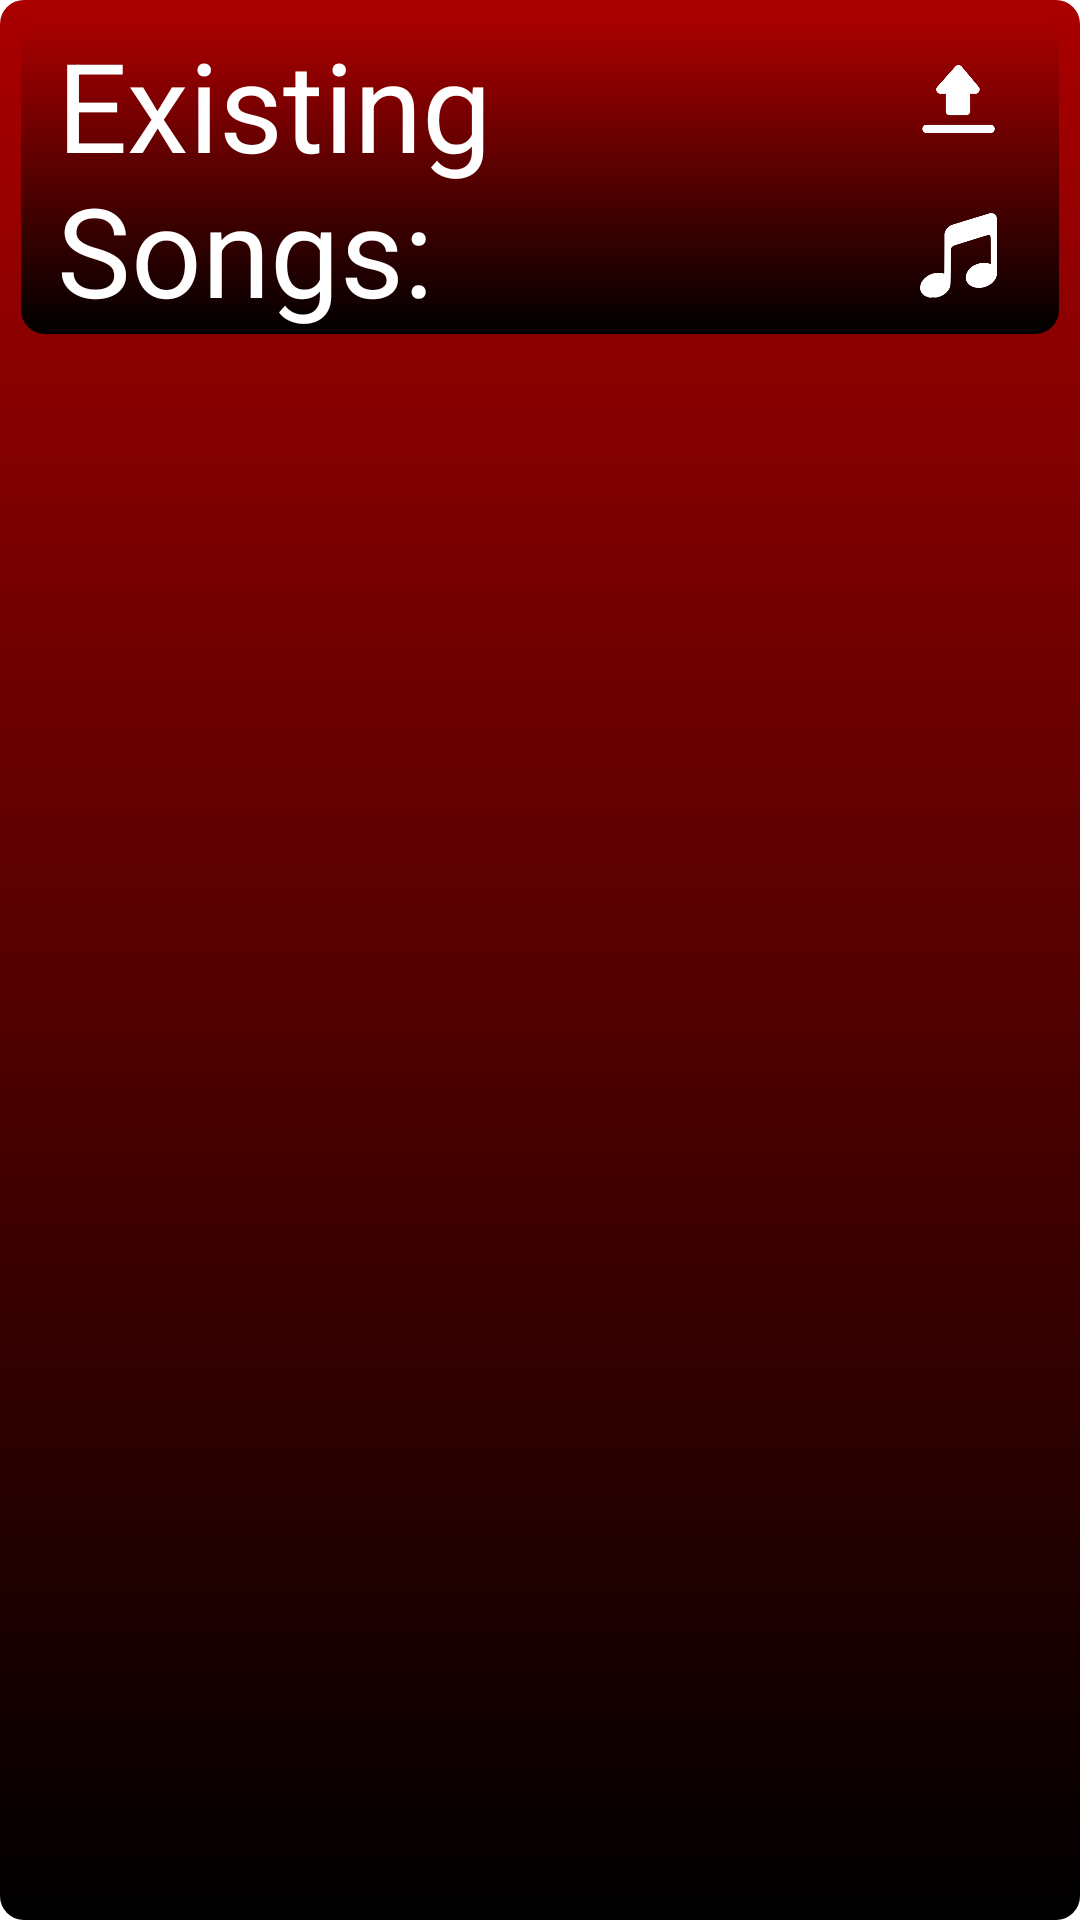

Where to tap for icons on this 1080px x 1920px app screen, as (x,y):
music: (958,255)
upload: (958,99)
